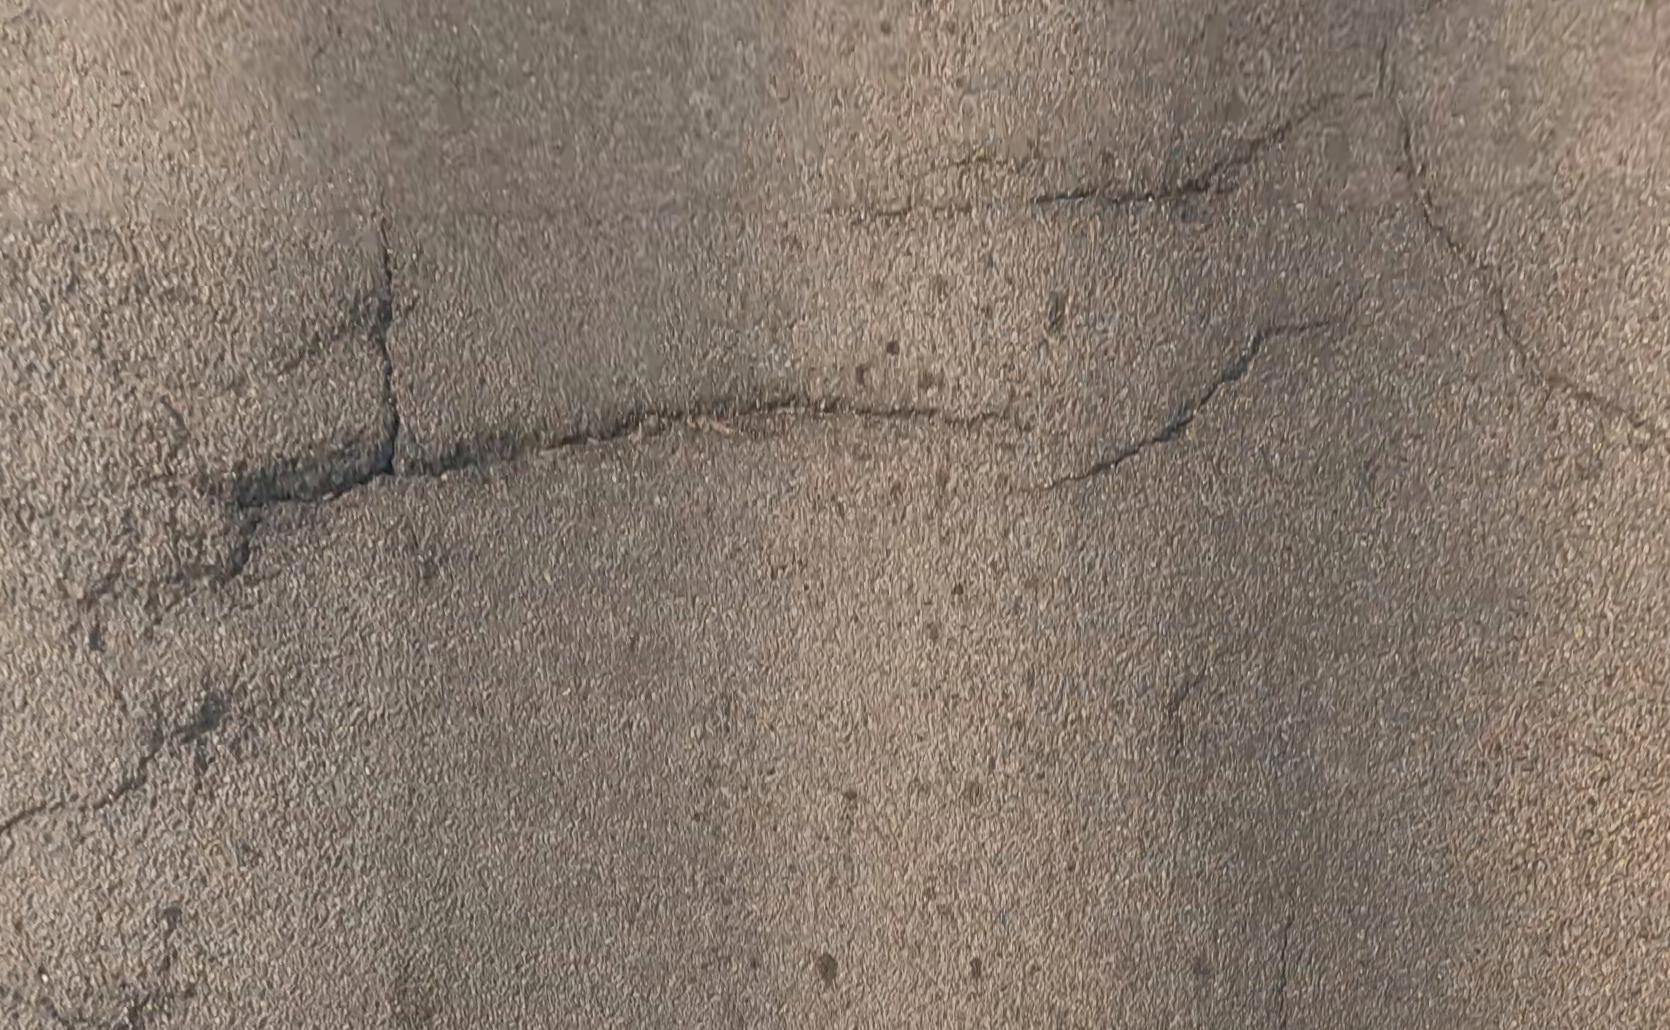pothole: (237, 430, 388, 537)
